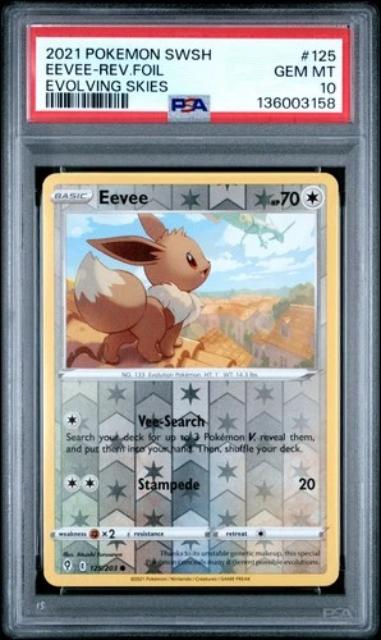Card: (37, 170, 344, 591)
Name: (91, 184, 152, 210)
